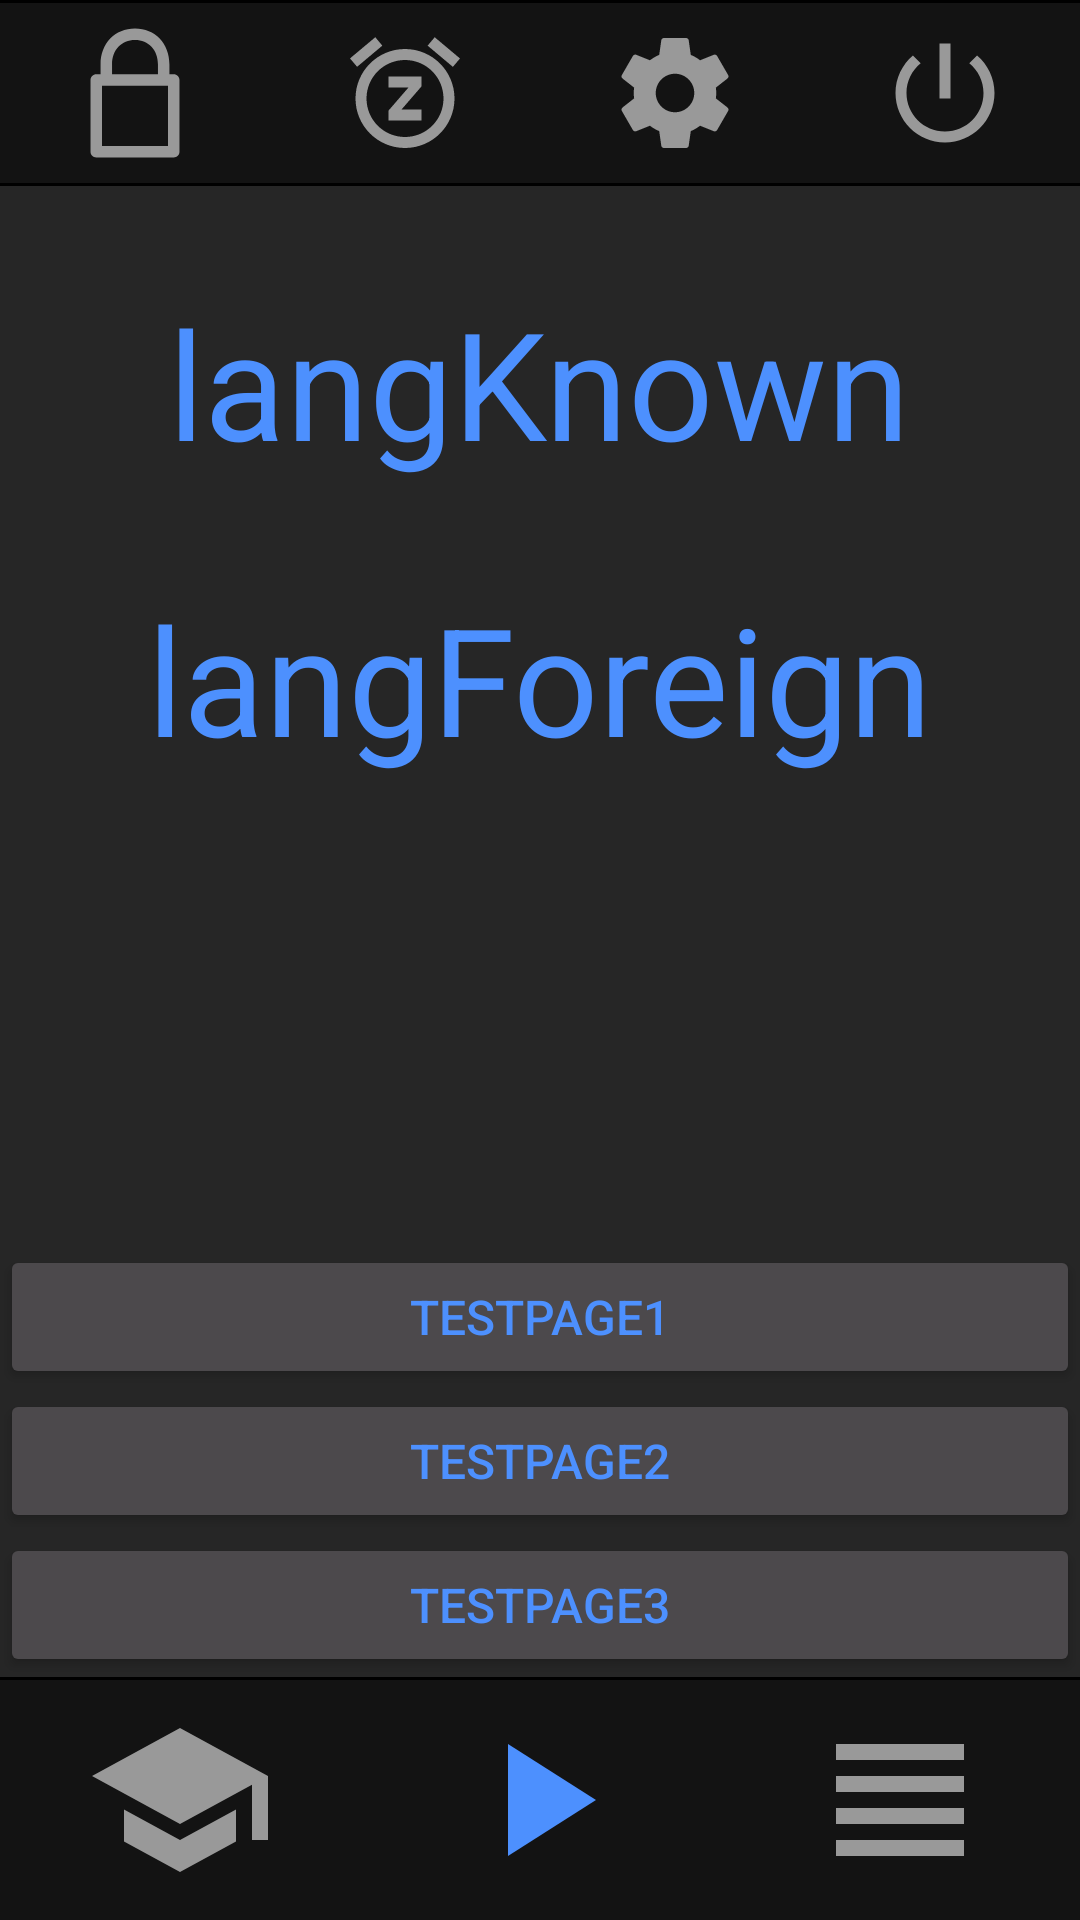

Where to tap for icons on this 1080 × 1920 app screen, as (x,y):
list: (900,1800)
lock: (135,93)
play: (552,1800)
power settings: (945,93)
settings: (675,93)
sleep: (405,92)
